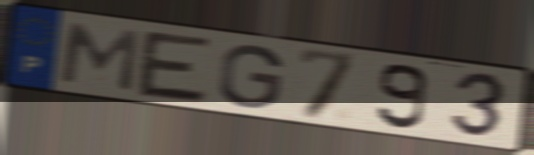3: (445, 70, 509, 141)
7: (296, 44, 362, 123)
9: (376, 63, 431, 130)
E: (135, 28, 216, 106)
G: (215, 43, 287, 111)
M: (55, 20, 143, 95)
